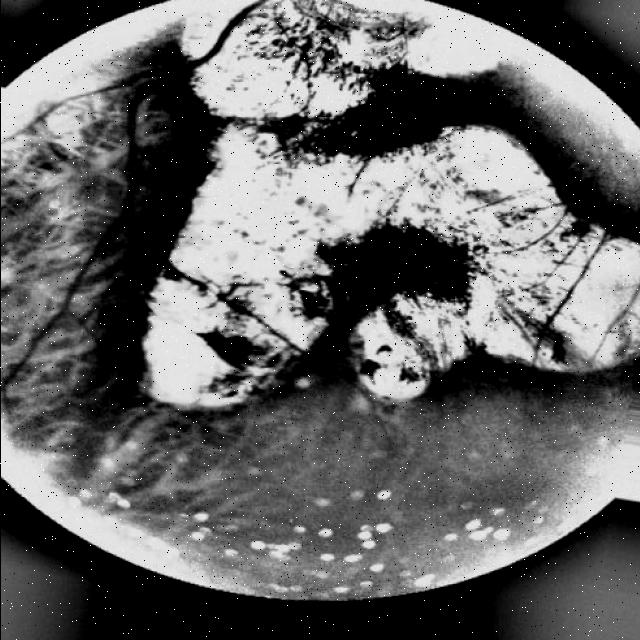Macula: (278, 323, 366, 423)
Nerves: (13, 5, 261, 381)
Optic Disk: (182, 0, 527, 123)
